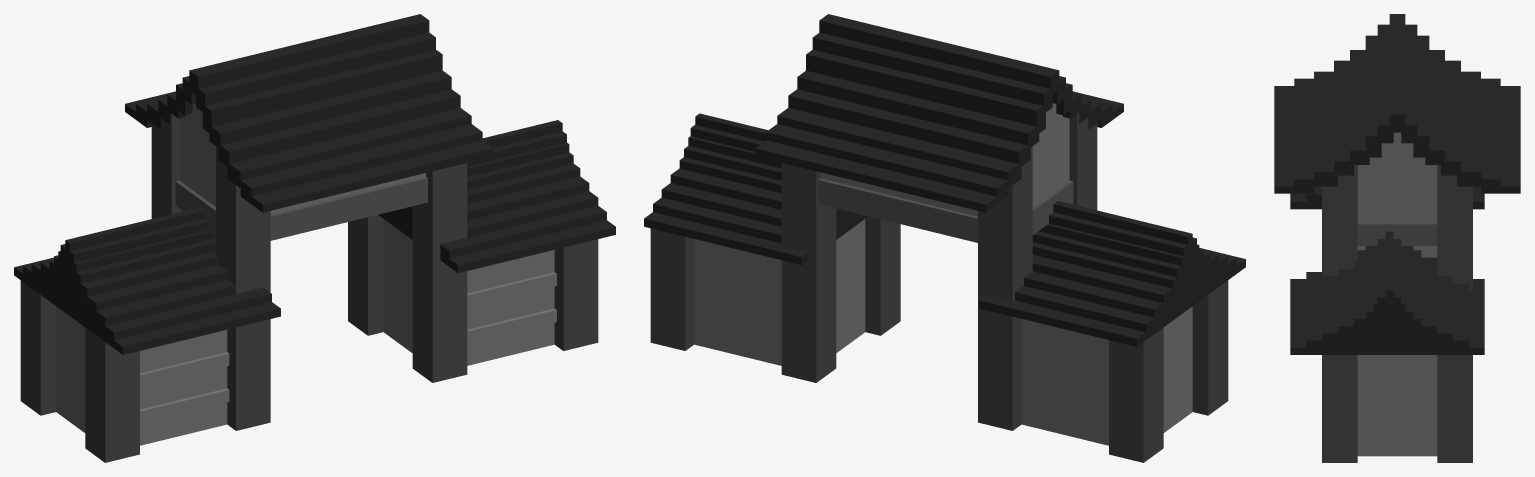
The model's file is sekisyo-0.glb.
The picture shows the model from 3 angles, left to right: view 1: azimuth 30°, elevation 25°; view 2: azimuth 150°, elevation 25°; view 3: azimuth 270°, elevation 25°; orthographic projection. The views are drawn at different scales.
Parts seen in each view (by area): view 1: Node; view 2: Node; view 3: Node.
Part boxes in pixels (box(x1,y1,x2,y2)): Node: box(14, 14, 615, 462); Node: box(644, 14, 1245, 462); Node: box(1274, 14, 1520, 462).
Size of the model in its own units: 12.8 by 8.1 by 6.2.
Materials: 1 (1 with a texture image).
